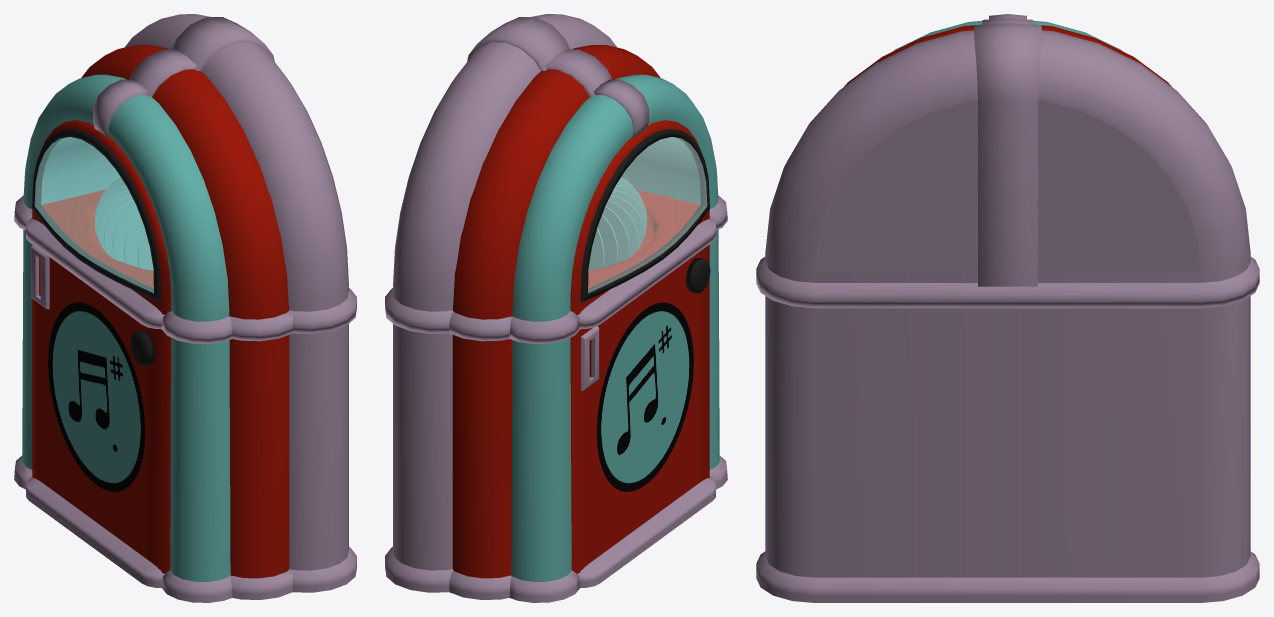
The model's file is GB_083_jukebox.glb.
3 renders of one model, left to right at view 1: azimuth 30°, elevation 25°; view 2: azimuth 150°, elevation 25°; view 3: azimuth 270°, elevation 25°, orthographic. The views are drawn at different scales.
Parts seen in each view (by area): view 1: Torus, Torus.002, Torus.001, Cylinder, Cylinder.004, Cylinder.016, Torus.003, Torus.004, Torus.005, Cylinder.001, Cube, Cylinder.002 (+4 smaller); view 2: Torus, Torus.002, Torus.001, Cylinder, Cylinder.004, Cylinder.016, Torus.003, Torus.004, Torus.005, Cylinder.001, Cube, Cylinder.002 (+5 smaller); view 3: Torus, Torus.005, Torus.003, Torus.004, Torus.001.
Part boxes in pixels (x1,y1,x2,y2): Torus: [124, 14, 348, 570]; Torus.002: [22, 74, 230, 581]; Torus.001: [81, 45, 289, 578]; Cylinder: [32, 120, 171, 573]; Cylinder.004: [48, 301, 145, 492]; Cylinder.016: [35, 137, 153, 292]; Torus.003: [14, 455, 356, 602]; Torus.004: [14, 195, 356, 343]; Torus.005: [93, 17, 274, 137]; Cylinder.001: [32, 129, 161, 302]; Cube: [31, 245, 49, 309]; Cylinder.002: [130, 330, 155, 365]; Torus: [393, 14, 617, 570]; Torus.002: [511, 74, 719, 581]; Torus.001: [452, 45, 660, 578]; Cylinder: [570, 120, 709, 573]; Cylinder.004: [596, 301, 693, 492]; Cylinder.016: [588, 137, 706, 292]; Torus.003: [385, 455, 727, 602]; Torus.004: [385, 195, 727, 343]; Torus.005: [467, 17, 648, 137]; Cylinder.001: [580, 129, 709, 302]; Cube: [581, 326, 599, 390]; Cylinder.002: [685, 257, 710, 293]; Torus: [765, 30, 1250, 577]; Torus.005: [974, 14, 1041, 286]; Torus.003: [756, 551, 1259, 602]; Torus.004: [756, 257, 1259, 308]; Torus.001: [844, 24, 1171, 86].
Bounding box in the file's own units: 0.8976 × 2.22 × 1.84.
6 materials, 1 textured.
